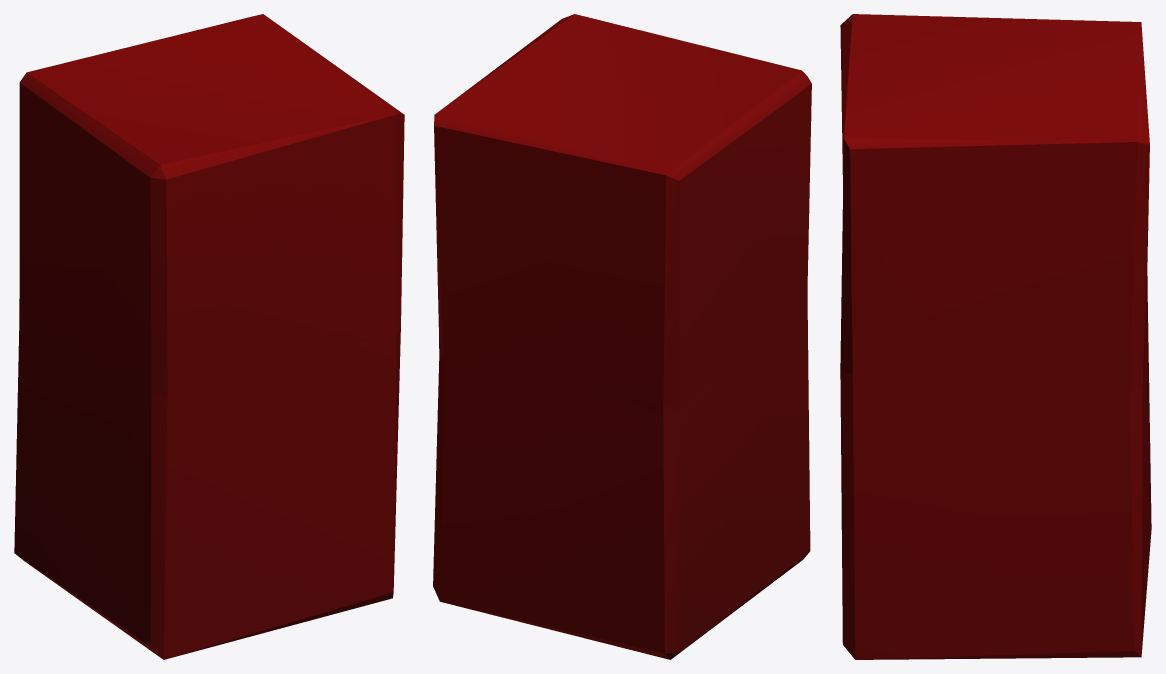
File: geology-carvedstone-stoneblock_v8.fbx
The picture shows the model from 3 angles, left to right: view 1: azimuth 30°, elevation 25°; view 2: azimuth 150°, elevation 25°; view 3: azimuth 270°, elevation 25°; orthographic projection. The views are drawn at different scales.
Parts seen in each view (by area): view 1: StoneBlock_v8; view 2: StoneBlock_v8; view 3: StoneBlock_v8.
Part boxes in pixels (left/top/right/bottom): StoneBlock_v8: left=14, top=14, right=404, bottom=659; StoneBlock_v8: left=433, top=14, right=811, bottom=659; StoneBlock_v8: left=840, top=14, right=1151, bottom=659.
Bounding box in the file's own units: 2.96 × 5.49 × 2.94.
